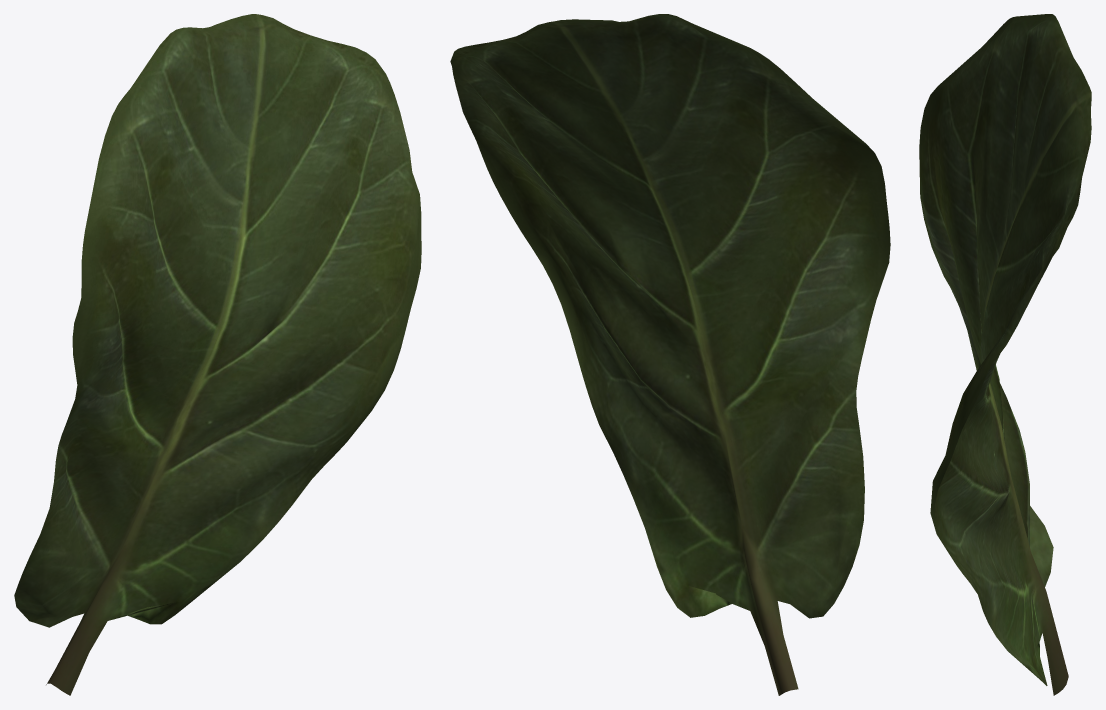
3 renders of one model, left to right at view 1: azimuth 30°, elevation 25°; view 2: azimuth 150°, elevation 25°; view 3: azimuth 270°, elevation 25°, orthographic. The views are drawn at different scales.
Parts seen in each view (by area): view 1: G-Plane209 68% 68% 68% 68%.014; view 2: G-Plane209 68% 68% 68% 68%.014; view 3: G-Plane209 68% 68% 68% 68%.014.
Part boxes in pixels (<box>): G-Plane209 68% 68% 68% 68%.014: <box>14,14,421,695</box>; G-Plane209 68% 68% 68% 68%.014: <box>450,14,890,695</box>; G-Plane209 68% 68% 68% 68%.014: <box>919,14,1091,695</box>.
Bounding box in the file's own units: 0.8459 × 1.34 × 0.2823.
1 material, 1 textured.
